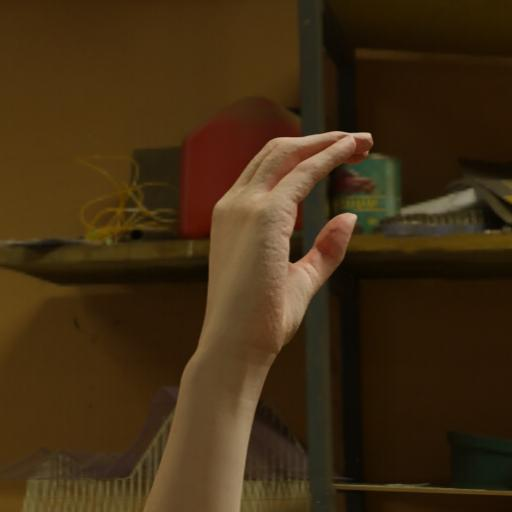C: (143, 114, 389, 492)
